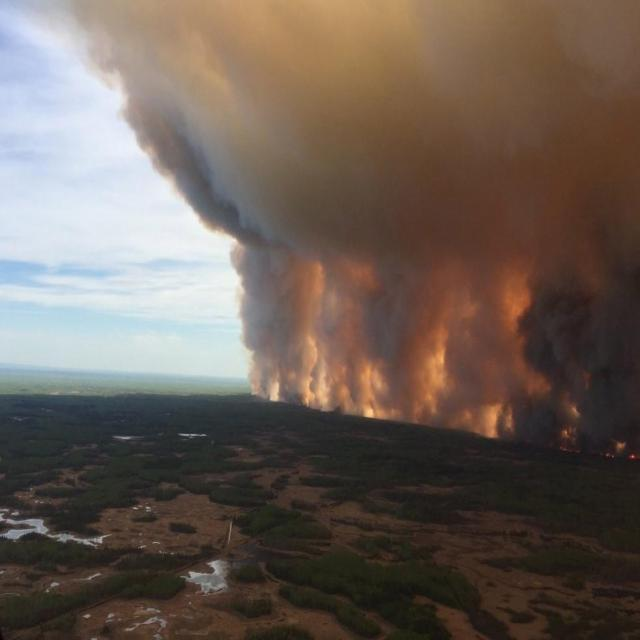Smoke: (26, 1, 640, 459)
